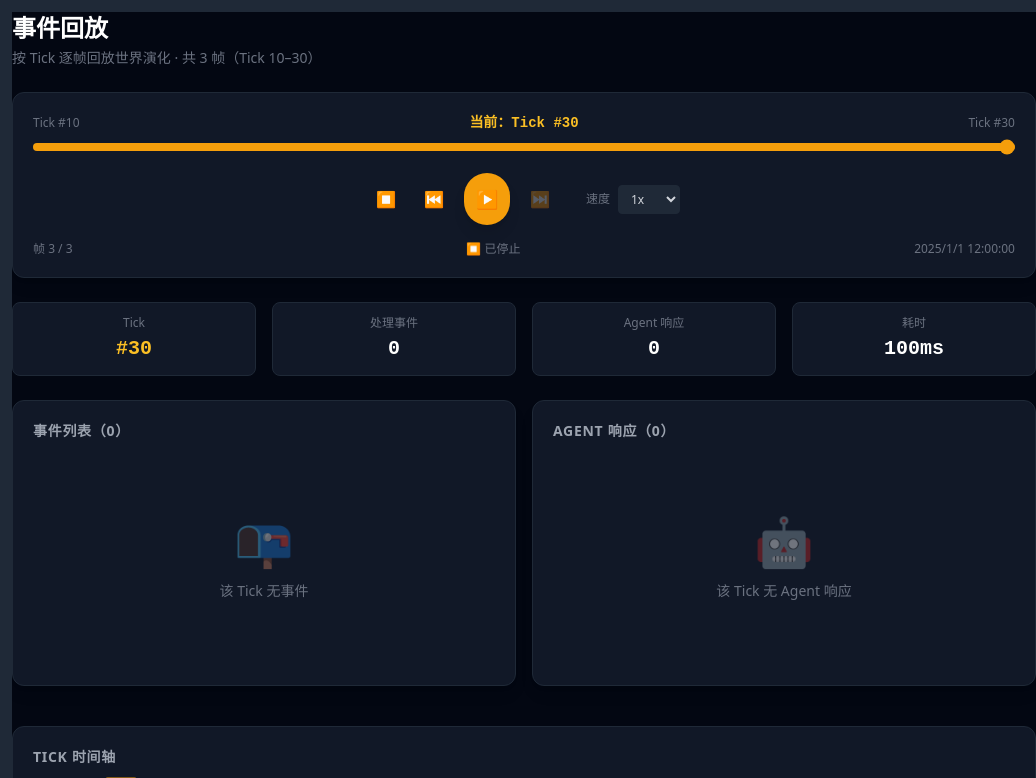
Test: TimelineReplay › 拖动滑块应跳转到对应 tick
Step 1. Set the slider with test id "timeline-slider" to "1" → (524, 147), box [33,143,1015,151]
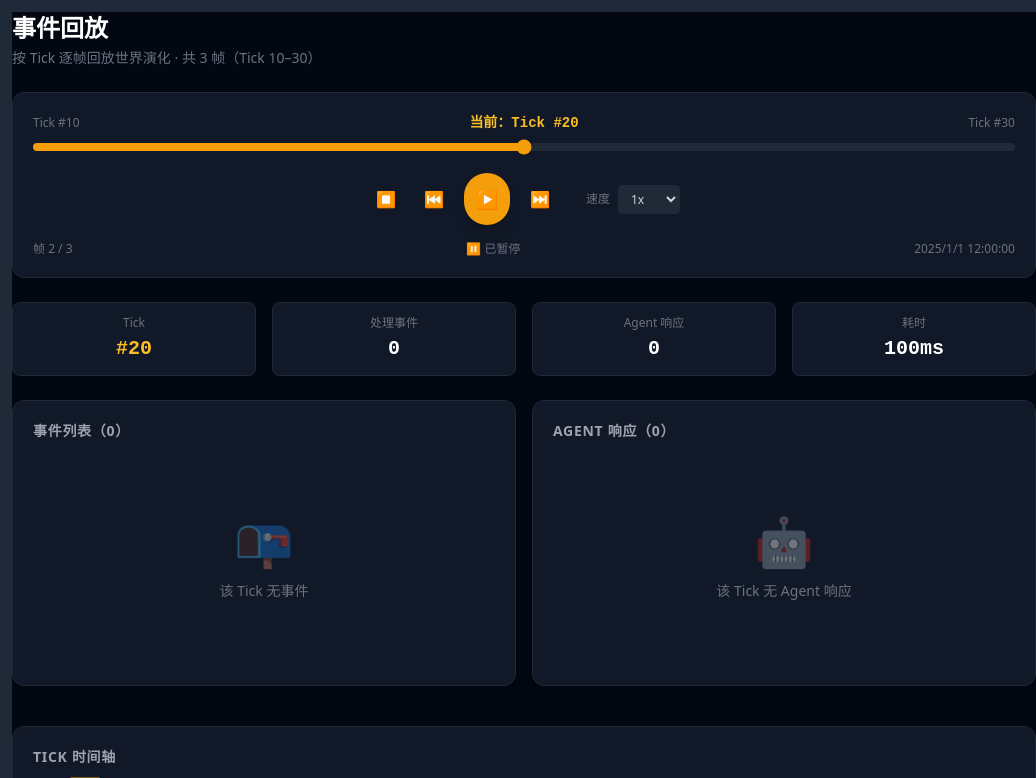
expect the text "当前：Tick #20" is shown: met, box [469,113,579,133]
